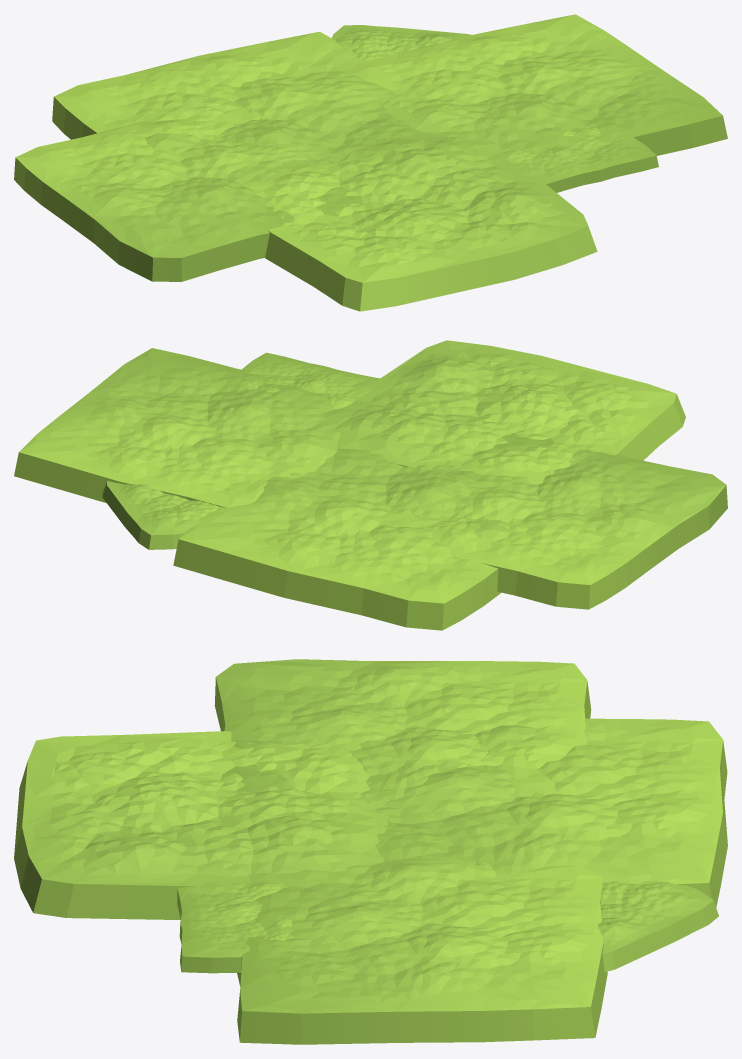
The model's file is Grounds.glb.
3 views of the same model, one above another, from view 1: azimuth 30°, elevation 25°; view 2: azimuth 150°, elevation 25°; view 3: azimuth 270°, elevation 25° (orthographic). The views are drawn at different scales.
Visible parts, largest first — view 1: Ground (×6); view 2: Ground (×6); view 3: Ground (×6).
Boxes of the visible parts, left/top/right/bottom form: Ground (×6): left=14, top=14, right=727, bottom=311; Ground (×6): left=14, top=340, right=727, bottom=630; Ground (×6): left=14, top=659, right=727, bottom=1044.
Bounding box in the file's own units: 158 × 10.04 × 133.
Materials: 1 (1 with a texture image).
